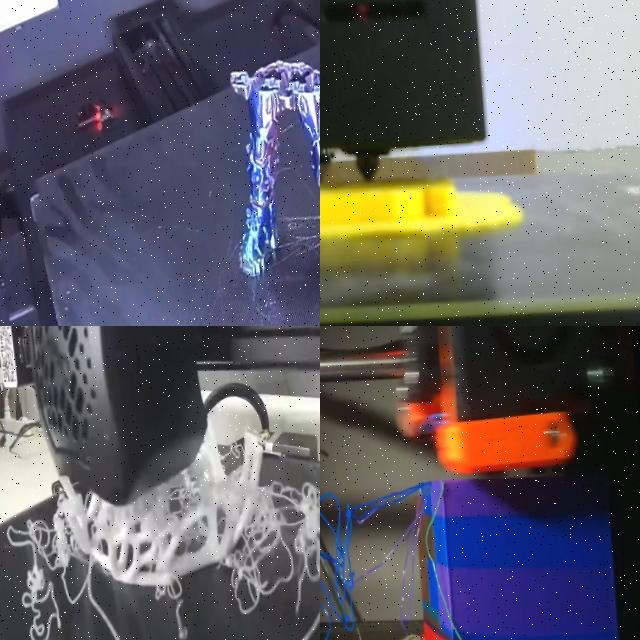spaghetti: (320, 428, 425, 640), (0, 518, 113, 640), (247, 461, 320, 640)
